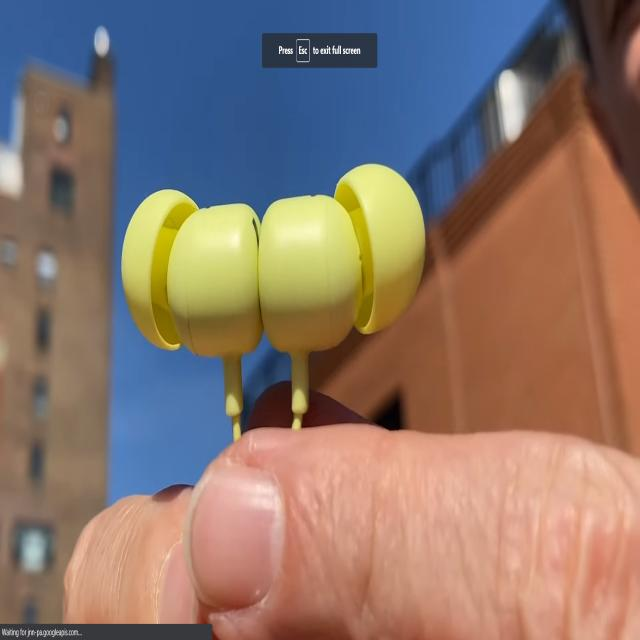Earphone: (120, 162, 428, 436)
